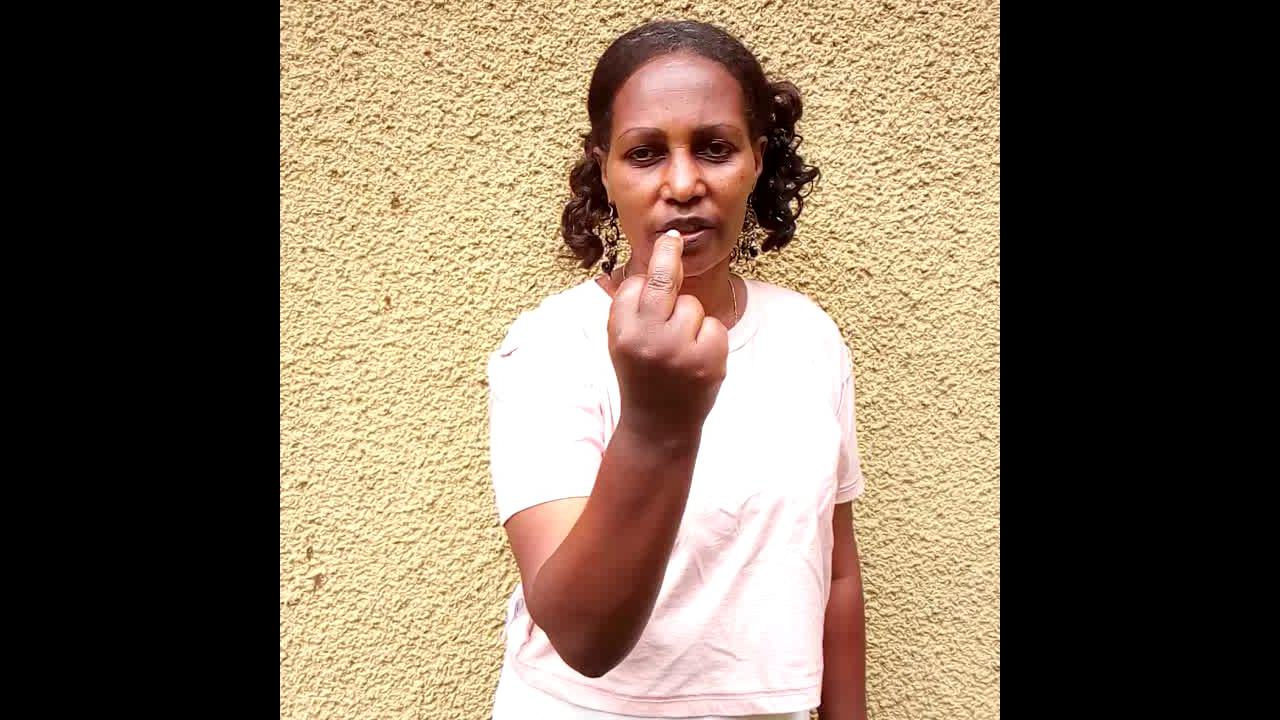CHE: (602, 228, 735, 533)
